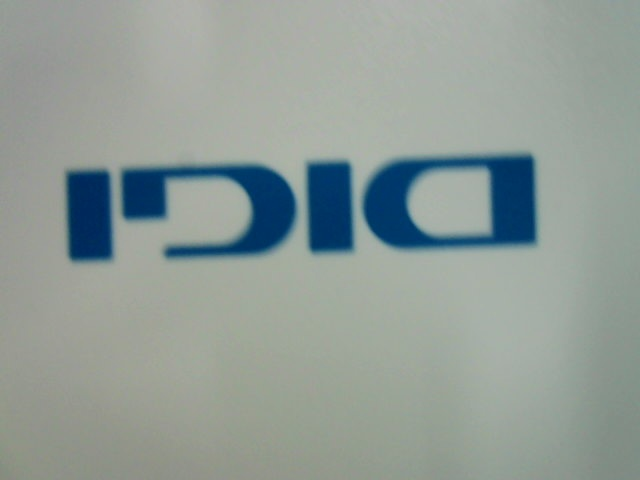BL_DIGI: (51, 151, 561, 266)
